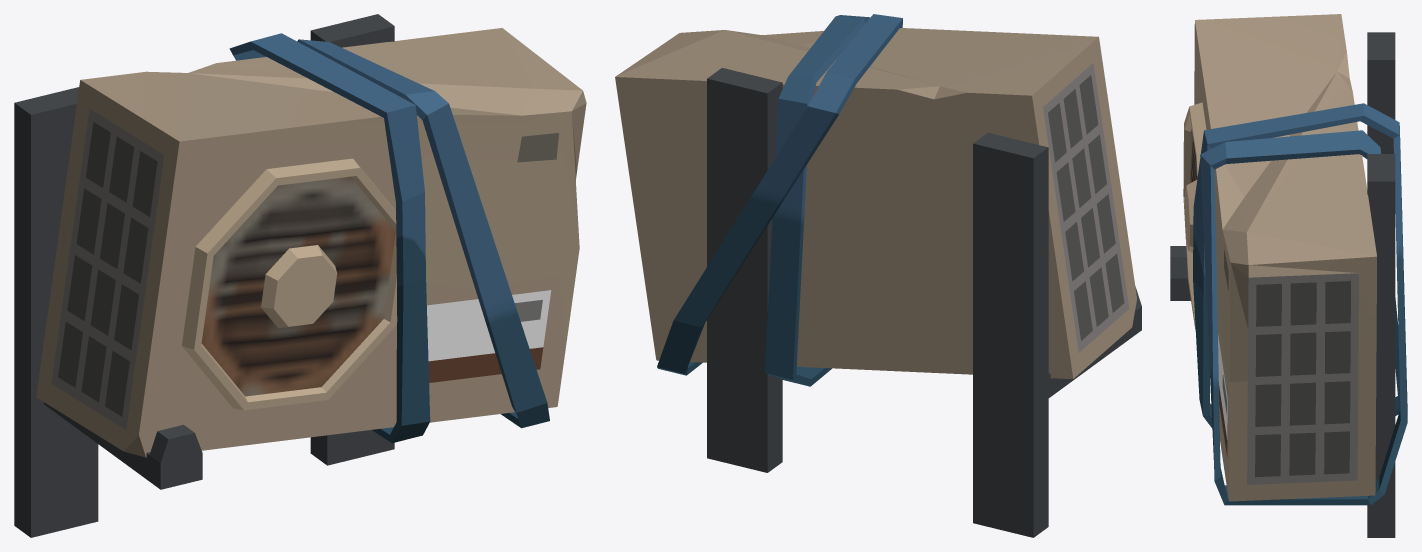
File: SM_Prop_Airconditioner_02.obj
The picture shows the model from 3 angles, left to right: view 1: azimuth 30°, elevation 25°; view 2: azimuth 150°, elevation 25°; view 3: azimuth 270°, elevation 25°; orthographic projection. The views are drawn at different scales.
Parts seen in each view (by area): view 1: SM_Prop_Airconditioner_02_0; view 2: SM_Prop_Airconditioner_02_0; view 3: SM_Prop_Airconditioner_02_0.
Boxes of the visible parts, x1,y1,x2,y2 form: SM_Prop_Airconditioner_02_0: (14,14,586,537); SM_Prop_Airconditioner_02_0: (615,14,1141,537); SM_Prop_Airconditioner_02_0: (1170,14,1407,537).
Bounding box in the file's own units: 1.18 × 1.05 × 0.5824.
Materials: 1 (1 with a texture image).
